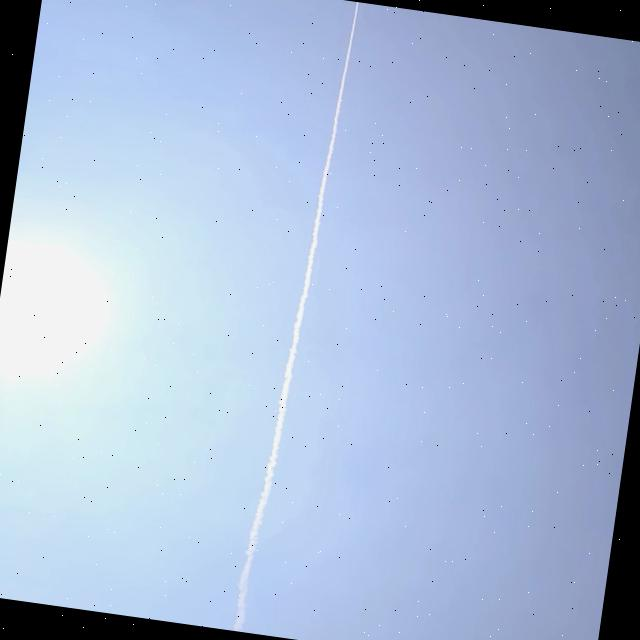smoke_trail_no_rocket: (232, 70, 347, 632)
